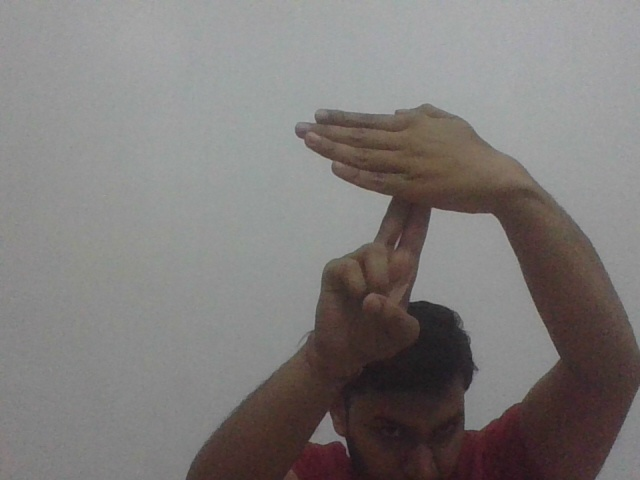N: (290, 100, 485, 243)
